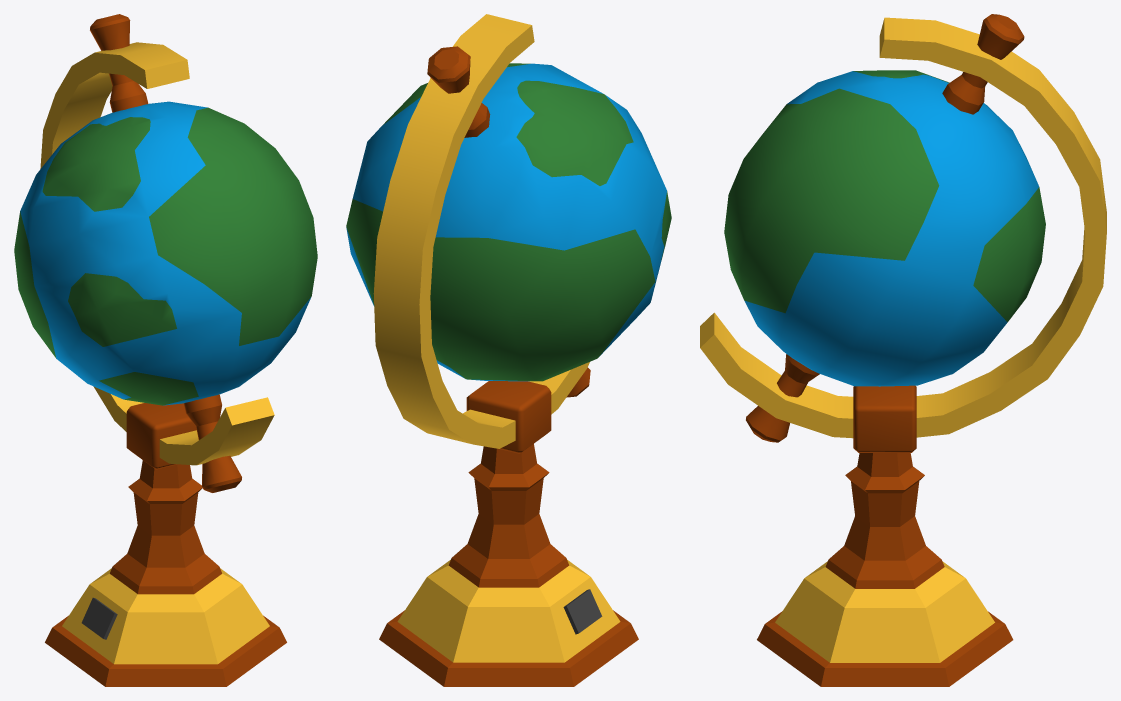
Rendered from Globe.fbx.
The picture shows the model from 3 angles, left to right: view 1: azimuth 30°, elevation 25°; view 2: azimuth 150°, elevation 25°; view 3: azimuth 270°, elevation 25°; orthographic projection. The views are drawn at different scales.
Parts seen in each view (by area): view 1: Globe; view 2: Globe; view 3: Globe.
Boxes of the visible parts, x1,y1,x2,y2 form: Globe: (14, 14, 317, 686); Globe: (346, 14, 671, 686); Globe: (700, 14, 1106, 686).
Bounding box in the file's own units: 514 × 1099 × 650.
